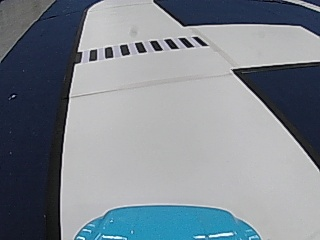CrossWalk: (75, 36, 205, 62)
